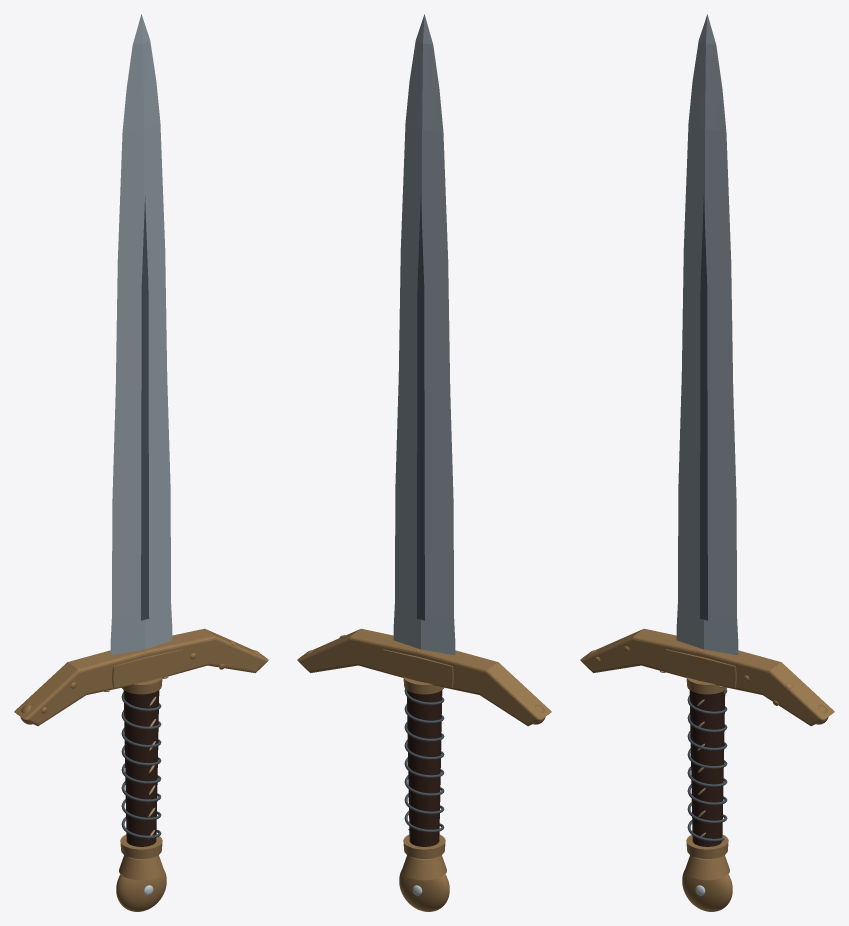
Rendered from longsword.glb.
The picture shows the model from 3 angles, left to right: view 1: azimuth 30°, elevation 25°; view 2: azimuth 150°, elevation 25°; view 3: azimuth 330°, elevation 25°; orthographic projection.
Parts seen in each view (by area): view 1: blade, grip, quillon.-1, fuller.1, quillon.1, guard block, leather binding, wheel pommel, pommel neck, grip collar; view 2: blade, grip, quillon.-1, fuller.-1, quillon.1, guard block, leather binding, wheel pommel, pommel neck, grip collar; view 3: blade, grip, quillon.1, fuller.1, quillon.-1, guard block, leather binding, wheel pommel, pommel neck, grip collar.
Part boxes in pixels (x1,y1,x2,y2): blade: [110, 14, 172, 655]; grip: [123, 690, 159, 846]; quillon.-1: [14, 648, 148, 726]; fuller.1: [141, 196, 149, 620]; quillon.1: [142, 628, 268, 677]; guard block: [112, 649, 184, 687]; leather binding: [121, 692, 161, 838]; wheel pommel: [116, 870, 166, 911]; pommel neck: [119, 855, 163, 880]; grip collar: [120, 835, 162, 858]; blade: [393, 14, 455, 655]; grip: [406, 690, 442, 846]; quillon.-1: [417, 648, 551, 726]; fuller.-1: [416, 196, 424, 620]; quillon.1: [297, 628, 423, 677]; guard block: [381, 649, 453, 687]; leather binding: [404, 689, 444, 832]; wheel pommel: [399, 870, 449, 911]; pommel neck: [402, 855, 446, 880]; grip collar: [403, 835, 445, 858]; blade: [676, 14, 738, 655]; grip: [689, 690, 725, 846]; quillon.1: [700, 648, 834, 726]; fuller.1: [699, 196, 707, 620]; quillon.-1: [580, 628, 706, 677]; guard block: [664, 649, 736, 687]; leather binding: [687, 689, 727, 841]; wheel pommel: [682, 870, 732, 911]; pommel neck: [685, 855, 729, 880]; grip collar: [686, 835, 728, 858].
Bounding box in the file's own units: 0.3613 × 1.26 × 0.0578.
